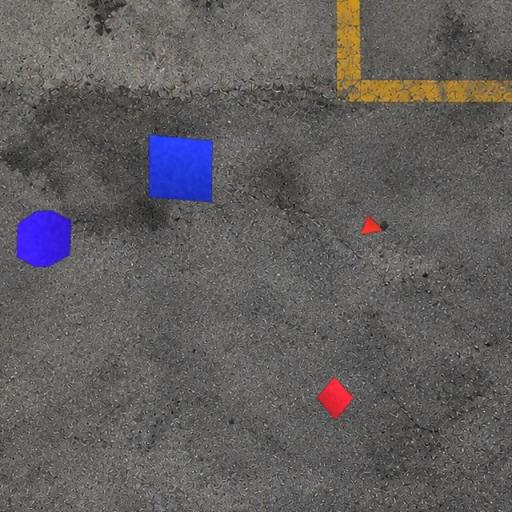BLUE_SQUARE: (148, 134, 214, 204)
RED_SQUARE: (316, 376, 354, 421)
